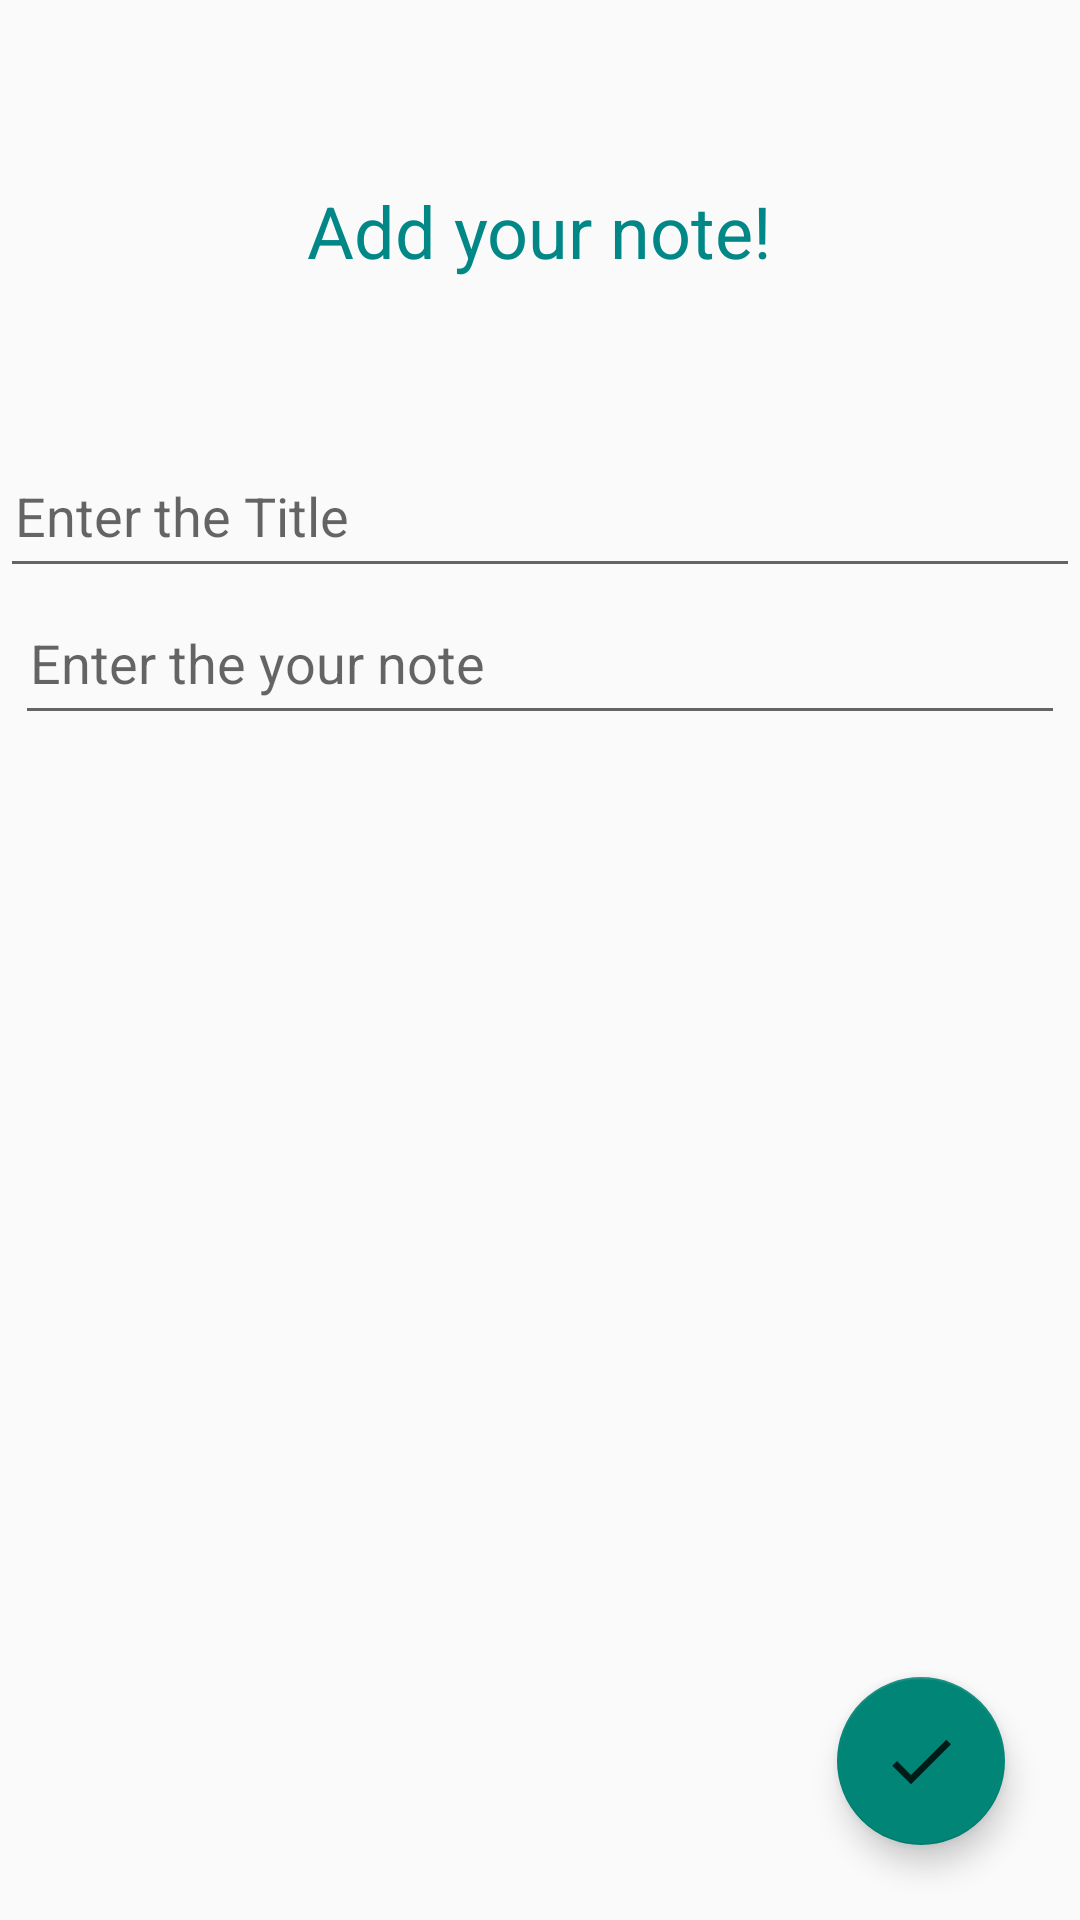

Screen size 1080x1920. Icon name, then its box in pixels as (x1, y1, x2, y2):
right: (837, 1677, 1005, 1845)
